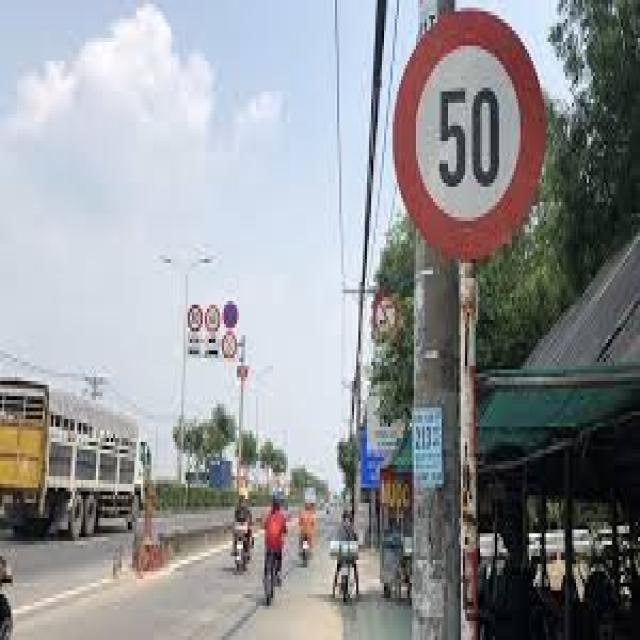Speed limit 50: (390, 5, 550, 264)
